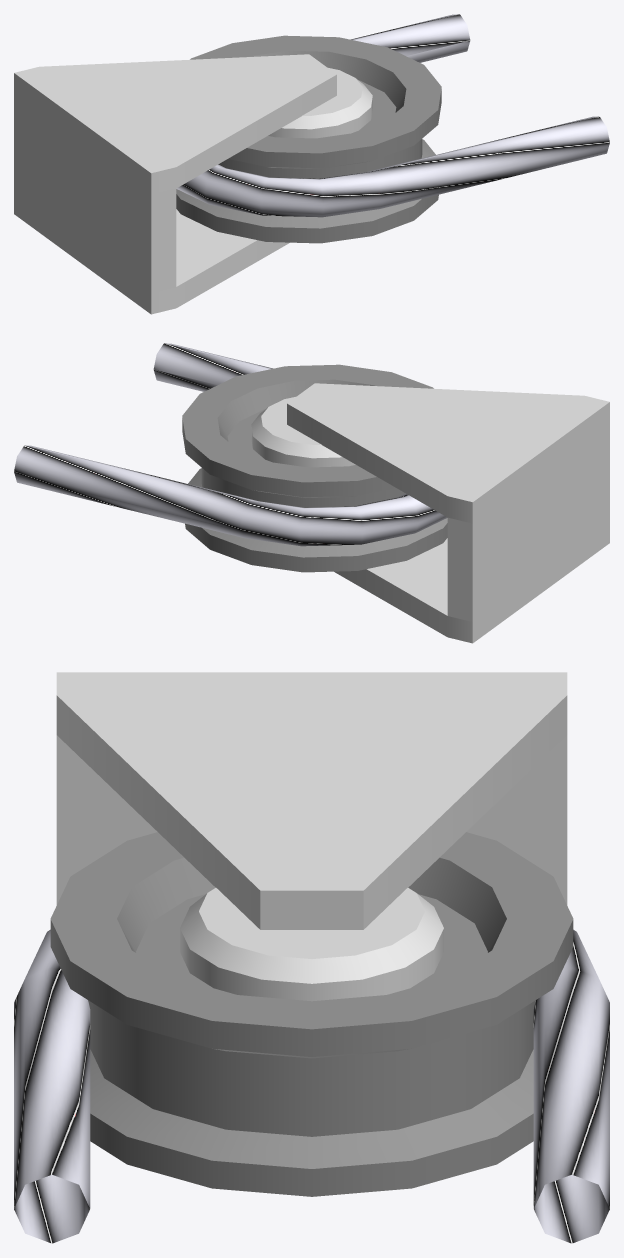
File: SM_Poulie.FBX
The picture shows the model from 3 angles, top to bottom: view 1: azimuth 30°, elevation 25°; view 2: azimuth 150°, elevation 25°; view 3: azimuth 270°, elevation 25°; orthographic projection. The views are drawn at different scales.
Visible parts, largest first — view 1: Cylinder002, Cylinder001, Shape001; view 2: Cylinder002, Cylinder001, Shape001; view 3: Cylinder002, Cylinder001, Shape001.
Boxes of the visible parts, x1,y1,x2,y2 form: Cylinder002: [14, 54, 372, 314]; Cylinder001: [176, 35, 441, 243]; Shape001: [176, 14, 609, 217]; Cylinder002: [251, 383, 609, 643]; Cylinder001: [182, 364, 447, 572]; Shape001: [14, 343, 447, 546]; Cylinder002: [56, 672, 567, 1001]; Cylinder001: [50, 832, 573, 1196]; Shape001: [14, 929, 609, 1243].
Bounding box in the file's own units: 52 × 15.69 × 32.23.
